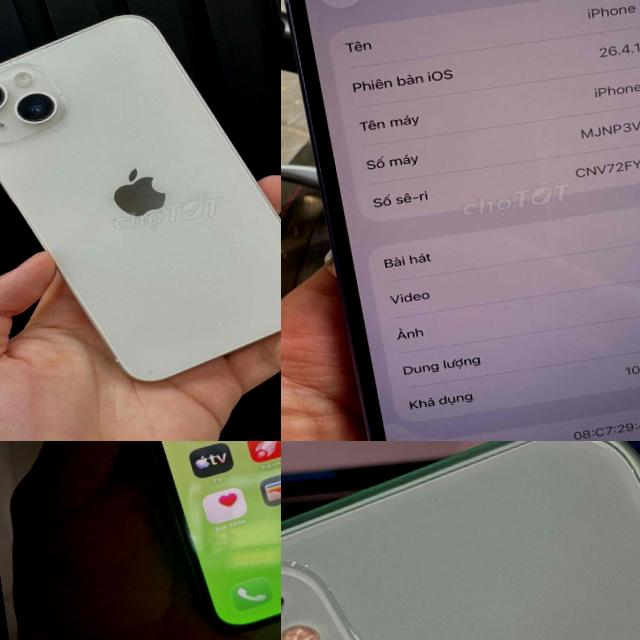gen_11: (281, 441, 640, 640)
gen_12_13: (281, 0, 640, 441), (81, 441, 281, 640)
gen_14: (0, 0, 281, 412)
